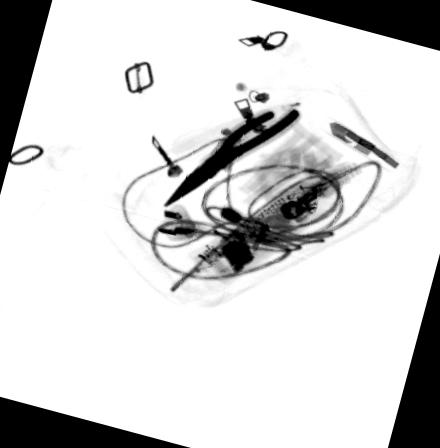Pliers: (162, 105, 302, 208)
